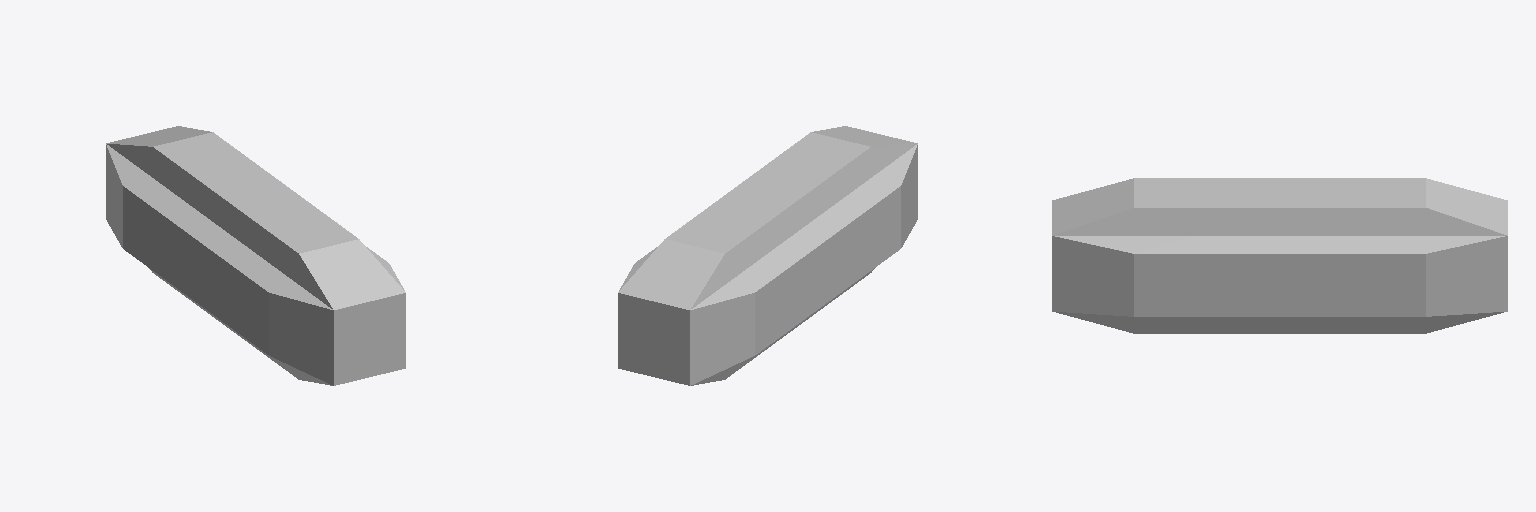
The model's file is flywheel_large_axle.obj.
3 renders of one model, left to right at view 1: azimuth 30°, elevation 25°; view 2: azimuth 150°, elevation 25°; view 3: azimuth 270°, elevation 25°, orthographic.
Visible parts, largest first — view 1: Cube; view 2: Cube; view 3: Cube.
Part boxes in pixels (x1,y1,x2,y2): Cube: (106,126,405,385); Cube: (618,126,917,385); Cube: (1052,178,1507,333).
Bounding box in the file's own units: 0.3048 × 0.3048 × 0.9992.